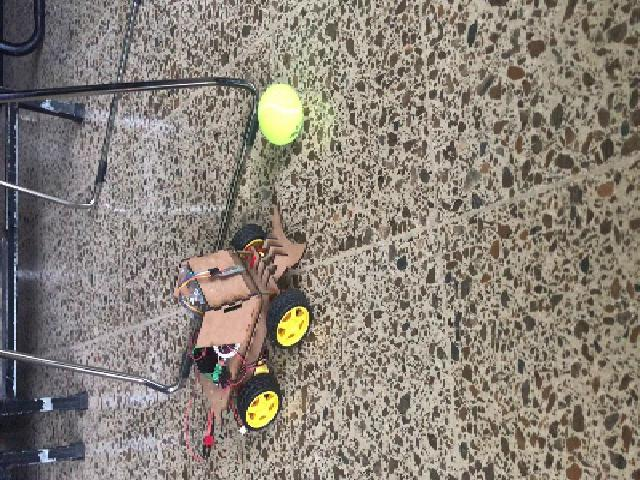Ball: (258, 84, 304, 145)
Robot: (179, 204, 314, 430)
